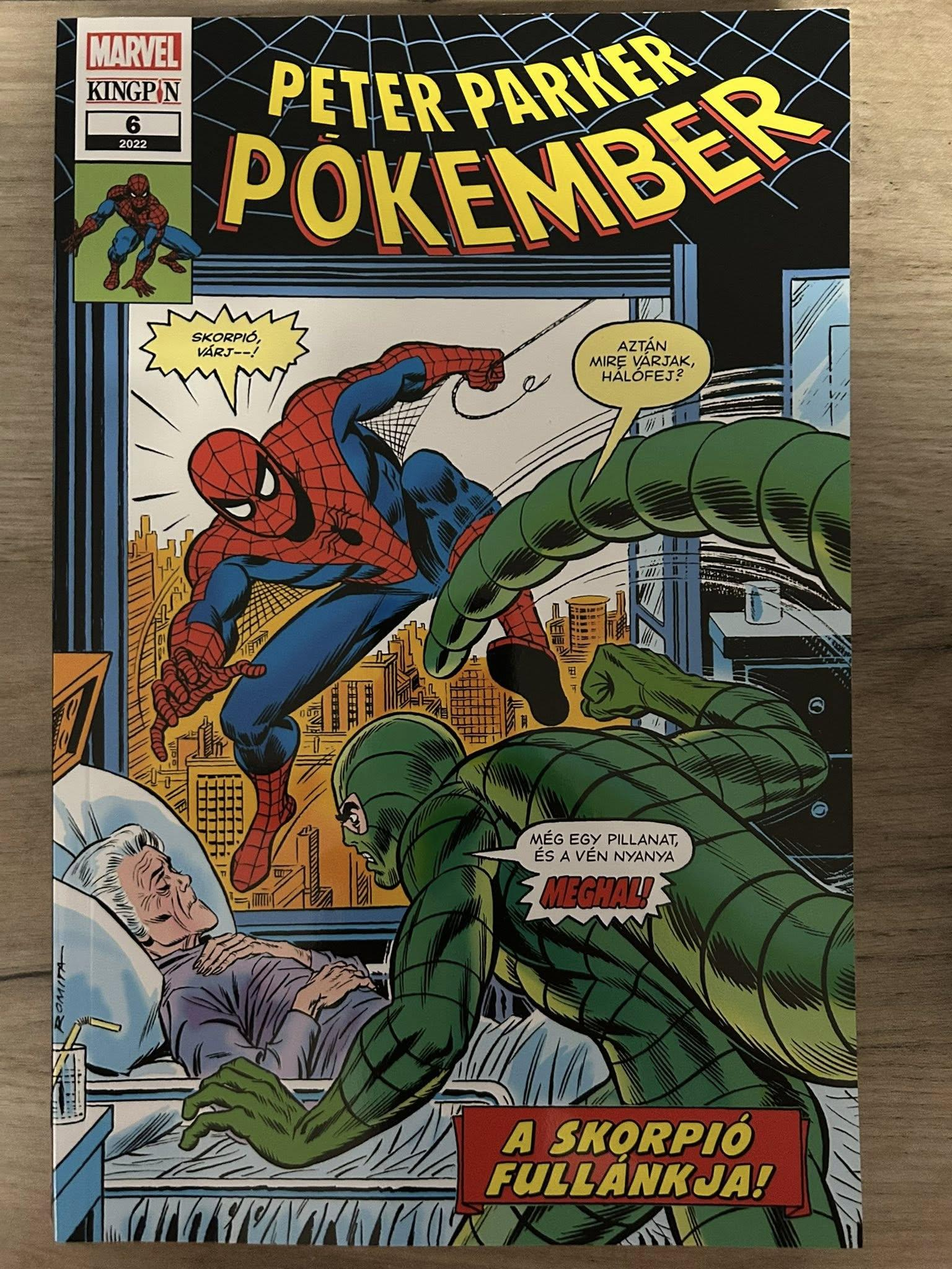comic: (46, 10, 860, 1250)
